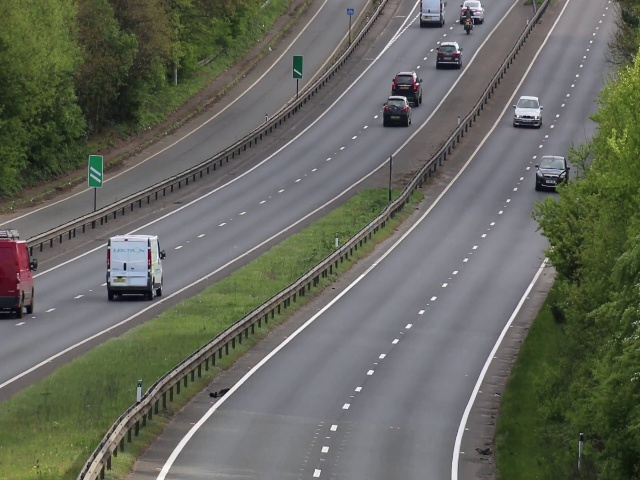car: (105, 232, 165, 300), (1, 236, 39, 317), (537, 150, 567, 195), (391, 68, 423, 106), (381, 96, 412, 126), (514, 95, 541, 127), (434, 42, 463, 69), (418, 1, 445, 26)
